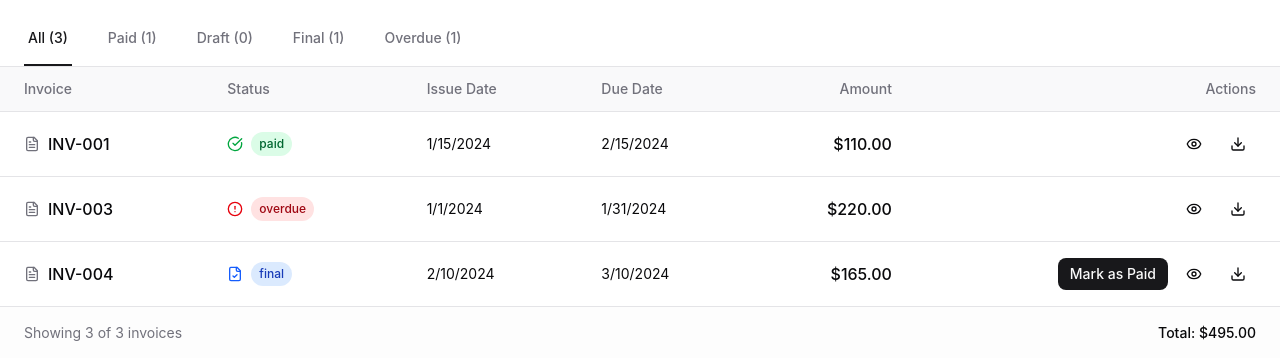
Test case: OrganizationInvoiceHistory › Summary Section › should not show summary when no invoices match filter
Click the button "Draft (0)" at (225, 39), box [193,12,257,66]
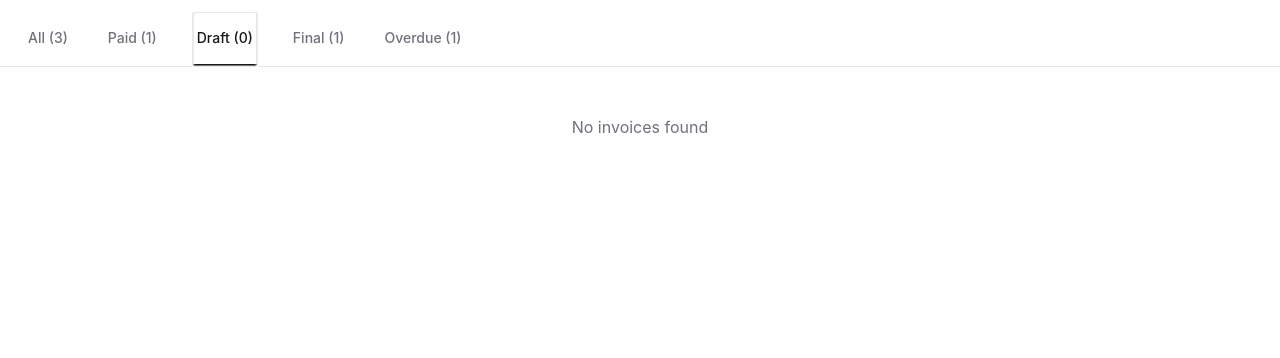
Expected: the text "Showing" is gone
